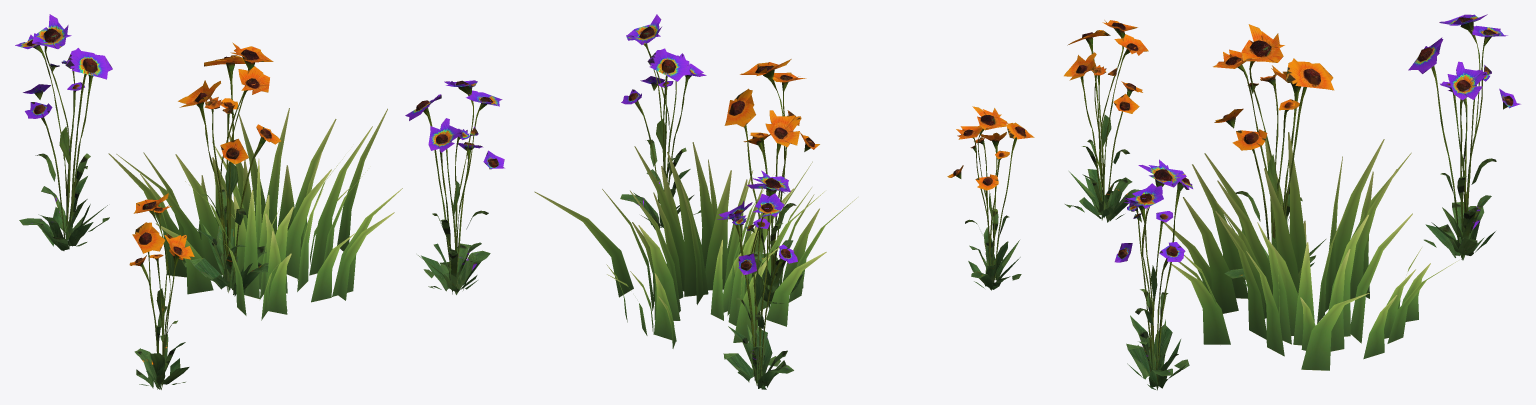
Rendered from FlowerPatch.glb.
The picture shows the model from 3 angles, left to right: view 1: azimuth 30°, elevation 25°; view 2: azimuth 150°, elevation 25°; view 3: azimuth 270°, elevation 25°; orthographic projection. The views are drawn at different scales.
Visible parts, largest first — view 1: GrassTuft, object 1, object 4, object 2, object 3; view 2: GrassTuft, object 4, object 1, object 3, object 2; view 3: GrassTuft, object 4, object 1, object 2, object 3.
Part boxes in pixels (x1,y1,x2,y2): GrassTuft: (108,108,402,320); object 1: (178,42,281,296); object 4: (15,14,112,250); object 2: (405,80,504,294); object 3: (129,193,194,389); GrassTuft: (534,142,857,348); object 4: (717,170,797,389); object 1: (724,59,819,308); object 3: (947,106,1034,290); object 2: (620,14,706,229); GrassTuft: (1164,131,1458,370); object 4: (1408,14,1520,260); object 1: (1213,24,1334,286); object 2: (1114,159,1192,390); object 3: (1064,20,1148,222).
Size of the model in its own units: 0.8047 by 0.5 by 0.7609.
3 materials, 3 textured.
